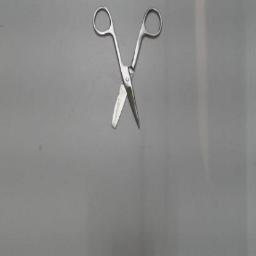Dressing Scissors: (86, 2, 168, 140)
